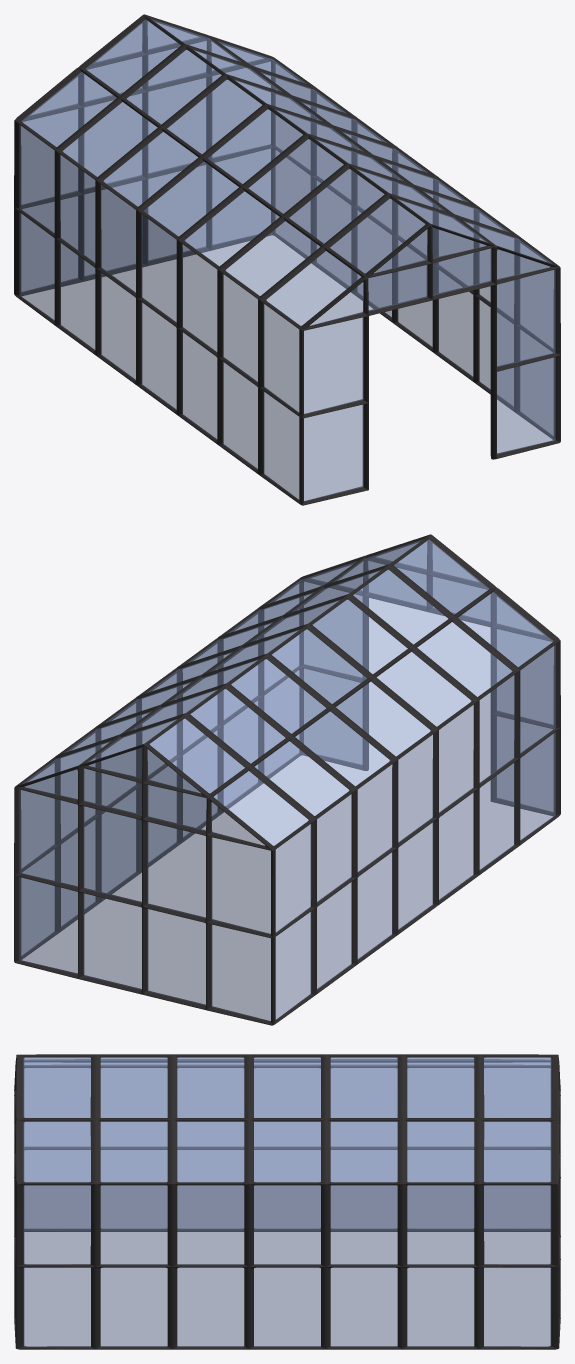
The model's file is GreenHouse.fbx.
3 renders of one model, top to bottom at view 1: azimuth 30°, elevation 25°; view 2: azimuth 150°, elevation 25°; view 3: azimuth 270°, elevation 25°, orthographic. The views are drawn at different scales.
Parts seen in each view (by area): view 1: Cube; view 2: Cube; view 3: Cube.
Boxes of the visible parts, x1=… form: Cube: x1=14, y1=14, x2=560, y2=505; Cube: x1=14, y1=534, x2=560, y2=1025; Cube: x1=14, y1=1054, x2=560, y2=1349.
Size of the model in its own units: 419 by 385 by 807.
